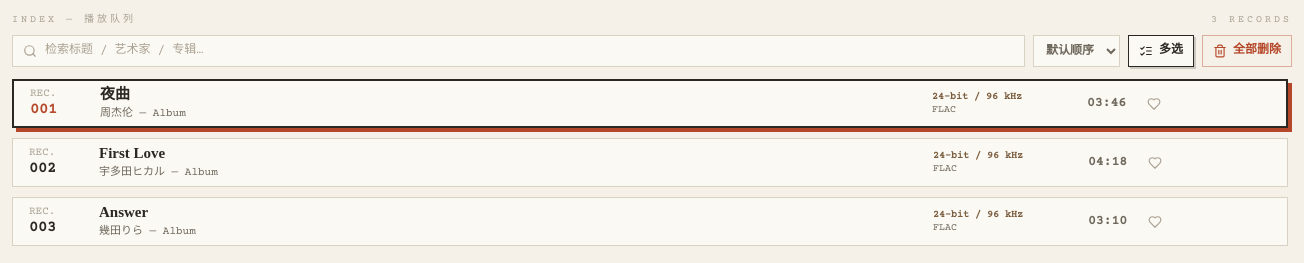
Test: TrackRows › 检索无匹配时显示提示
Type "zzz" into the field named "检索曲目" at (530, 51), box [45, 43, 1014, 59]
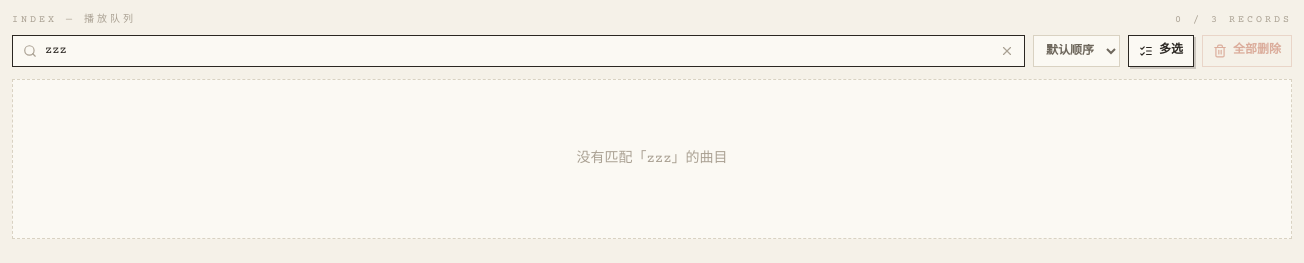
Now the text "没有匹配「zzz」的曲目" is shown, box [12, 79, 1292, 239]
